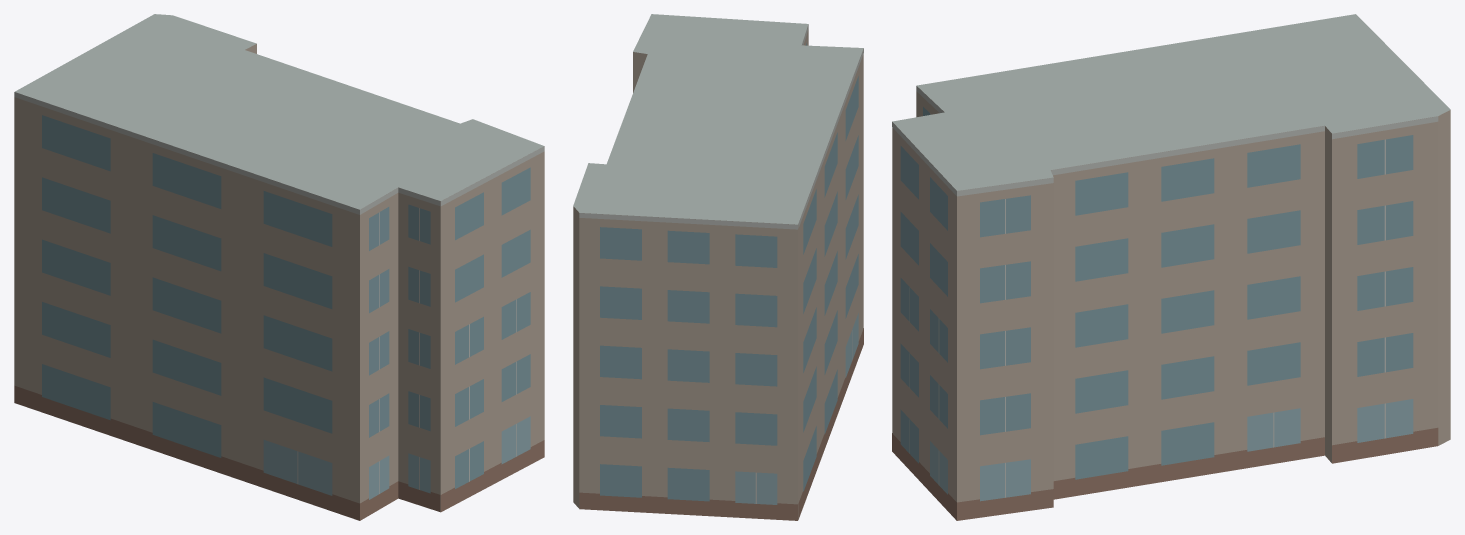
The model's file is survey-upis-32745974.glb.
3 renders of one model, left to right at view 1: azimuth 30°, elevation 25°; view 2: azimuth 150°, elevation 25°; view 3: azimuth 270°, elevation 25°, orthographic. The views are drawn at different scales.
Parts seen in each view (by area): view 1: survey-upis-32745974.tmp; view 2: survey-upis-32745974.tmp; view 3: survey-upis-32745974.tmp.
Boxes of the visible parts, left/top/right/bottom form: survey-upis-32745974.tmp: left=14, top=14, right=544, bottom=520; survey-upis-32745974.tmp: left=573, top=14, right=863, bottom=520; survey-upis-32745974.tmp: left=892, top=14, right=1450, bottom=520.
Size of the model in its own units: 16.69 by 14.5 by 22.26.
